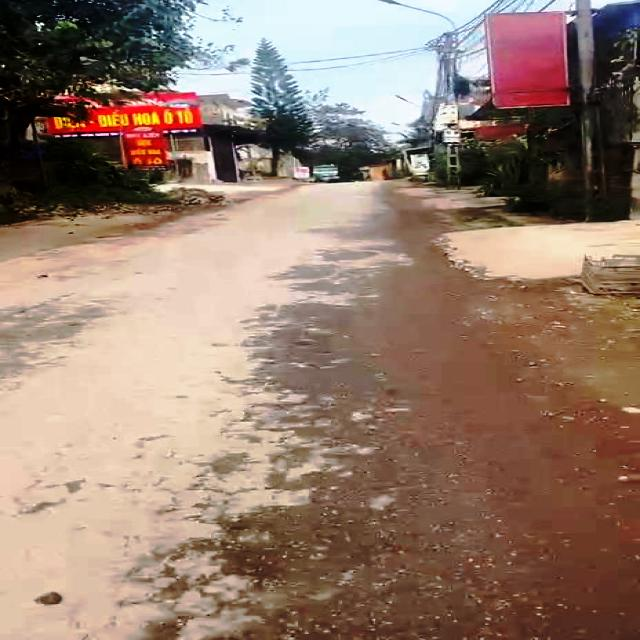pothole: (221, 501, 390, 583)
